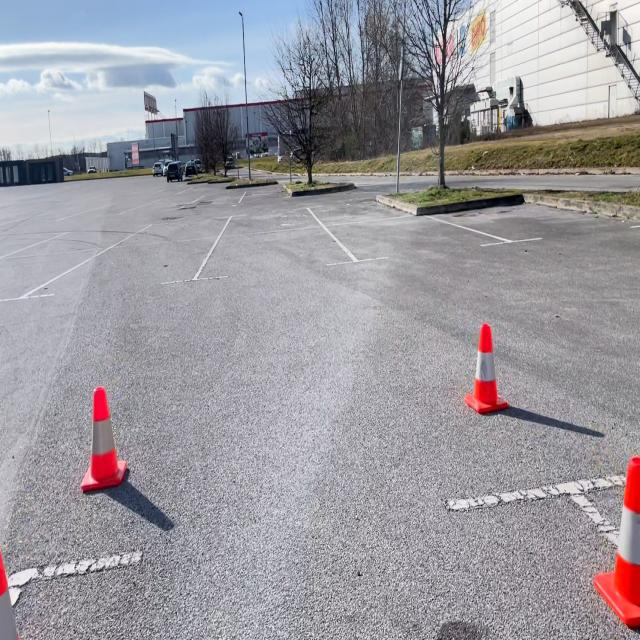orange_cone: (591, 455, 640, 629), (79, 384, 130, 493), (465, 322, 510, 416), (0, 545, 25, 639)
